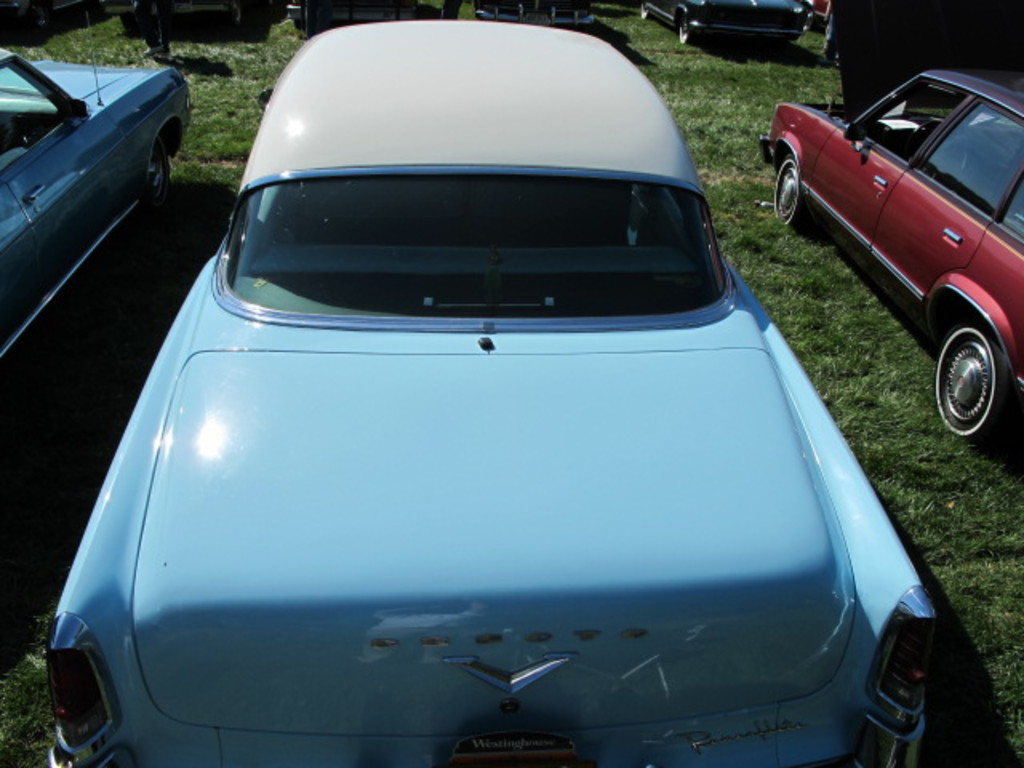Car: (43, 17, 935, 766), (763, 62, 1022, 447), (0, 44, 193, 380)
